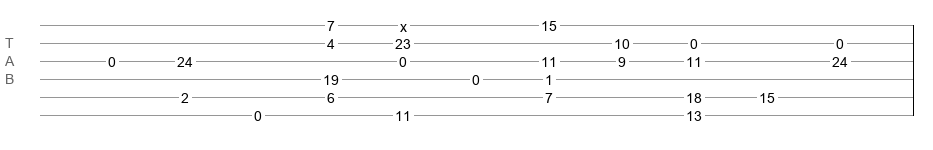0: (108, 54, 116, 64), (254, 108, 262, 118), (399, 54, 407, 64), (472, 72, 480, 82), (690, 36, 698, 46), (836, 36, 844, 46)
1: (545, 72, 553, 82)
10: (614, 36, 630, 46)
11: (395, 108, 411, 118), (541, 54, 557, 64), (686, 54, 702, 64)
13: (686, 108, 702, 118)
15: (541, 18, 557, 28), (759, 90, 775, 100)
18: (686, 90, 702, 100)
19: (323, 72, 339, 82)
2: (181, 90, 189, 100)
23: (395, 36, 411, 46)
24: (177, 54, 193, 64), (832, 54, 848, 64)
4: (327, 36, 335, 46)
6: (327, 90, 335, 100)
7: (327, 18, 335, 28), (545, 90, 553, 100)
9: (618, 54, 626, 64)
x: (400, 19, 407, 27)
